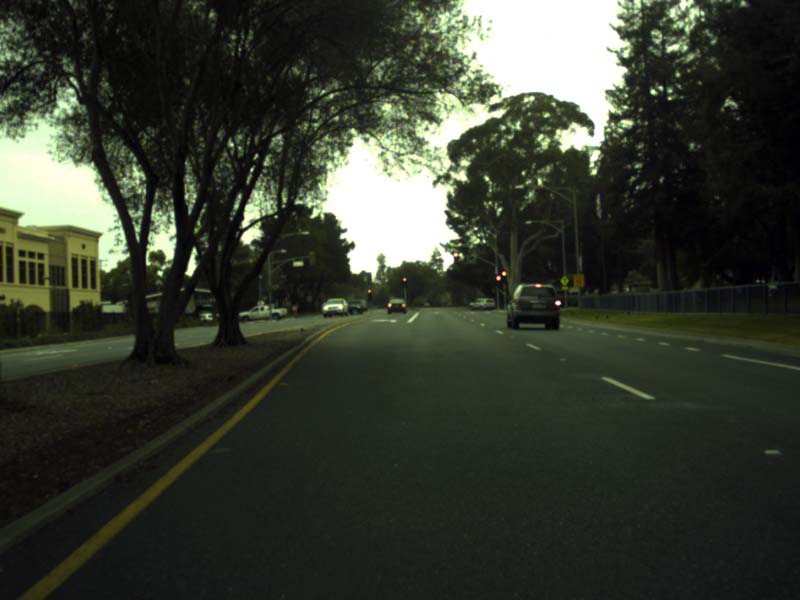Red: (494, 274, 501, 287), (501, 270, 507, 282), (366, 289, 372, 300), (453, 251, 458, 263), (402, 276, 407, 287)
